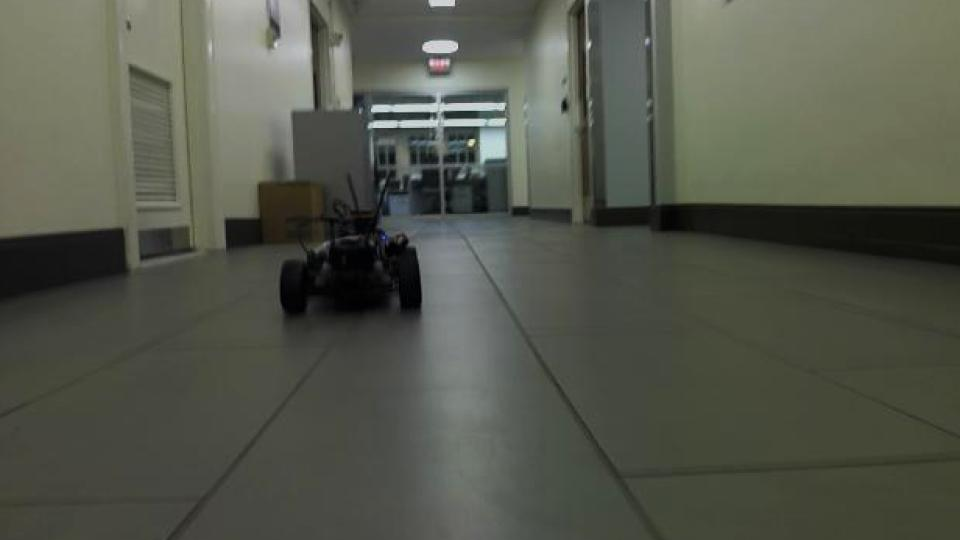car: (277, 168, 427, 318)
